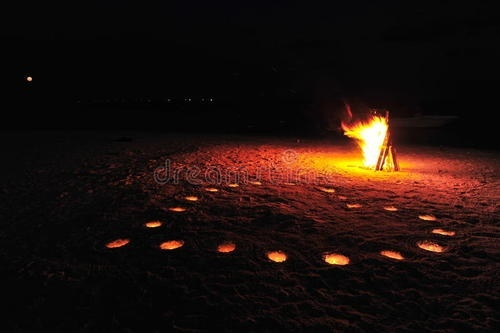fire: (340, 112, 395, 168)
